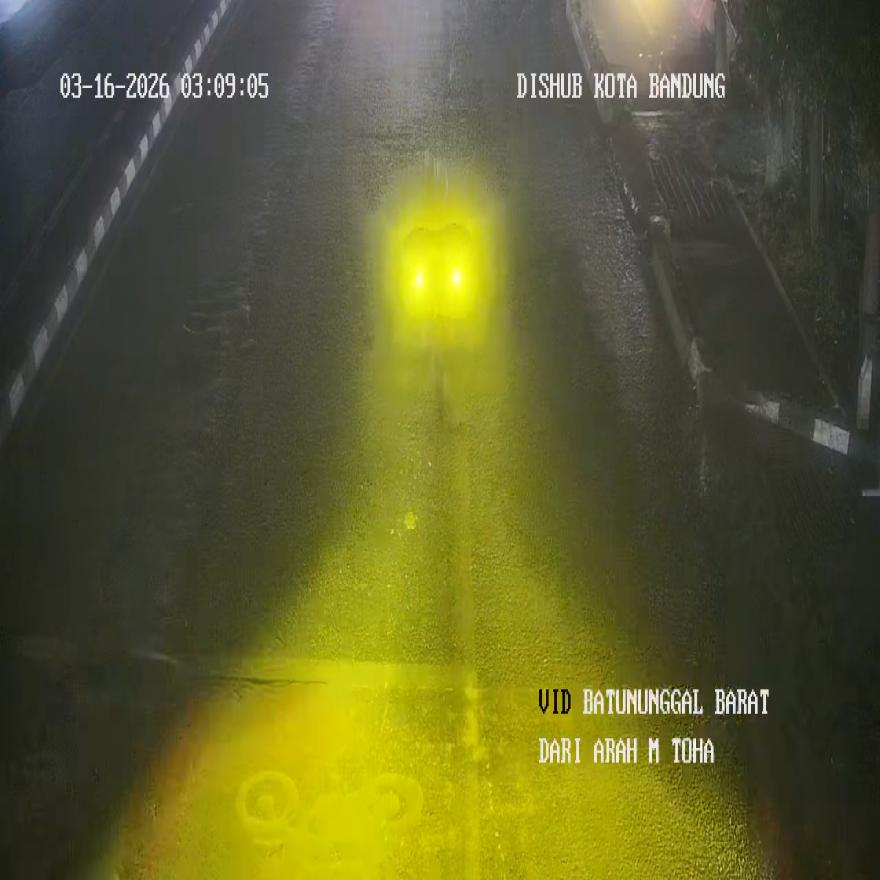Truk: (401, 165, 476, 319)
